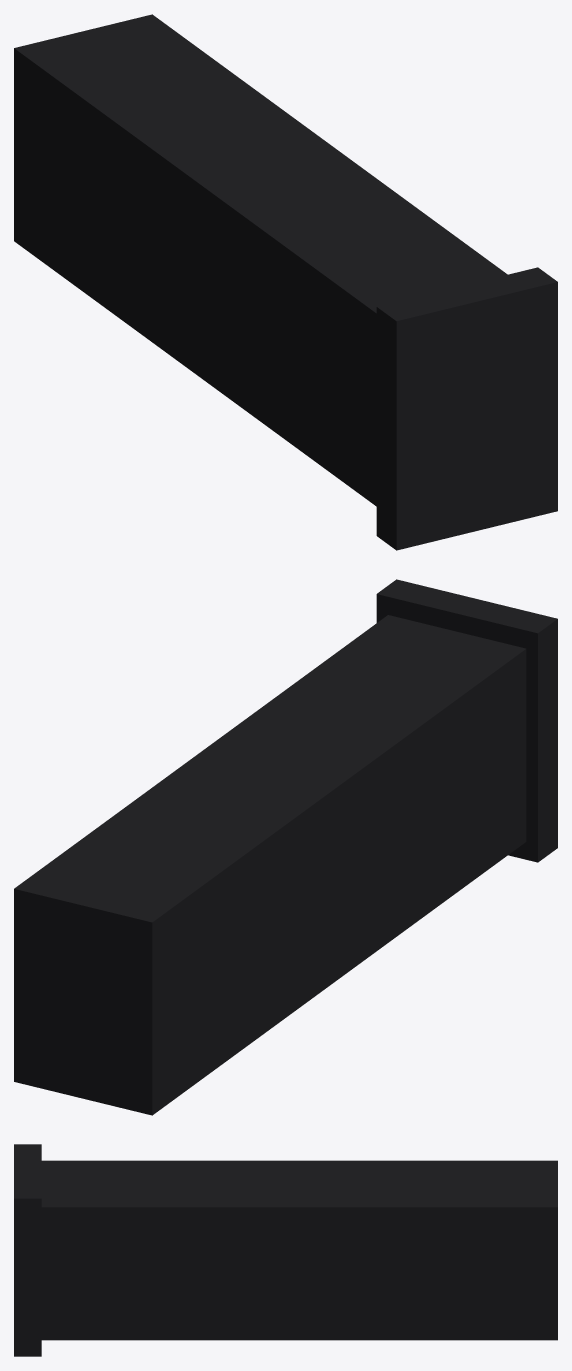
Rendered from Glock17_Mag33.fbx.
The picture shows the model from 3 angles, top to bottom: view 1: azimuth 30°, elevation 25°; view 2: azimuth 150°, elevation 25°; view 3: azimuth 270°, elevation 25°; orthographic projection. The views are drawn at different scales.
Parts seen in each view (by area): view 1: prims; view 2: prims; view 3: prims.
Part boxes in pixels (x1,y1,x2,y2): prims: (14, 14, 557, 550); prims: (14, 579, 557, 1115); prims: (14, 1144, 557, 1356).
Bounding box in the file's own units: 0.0168 × 0.0228 × 0.071.
